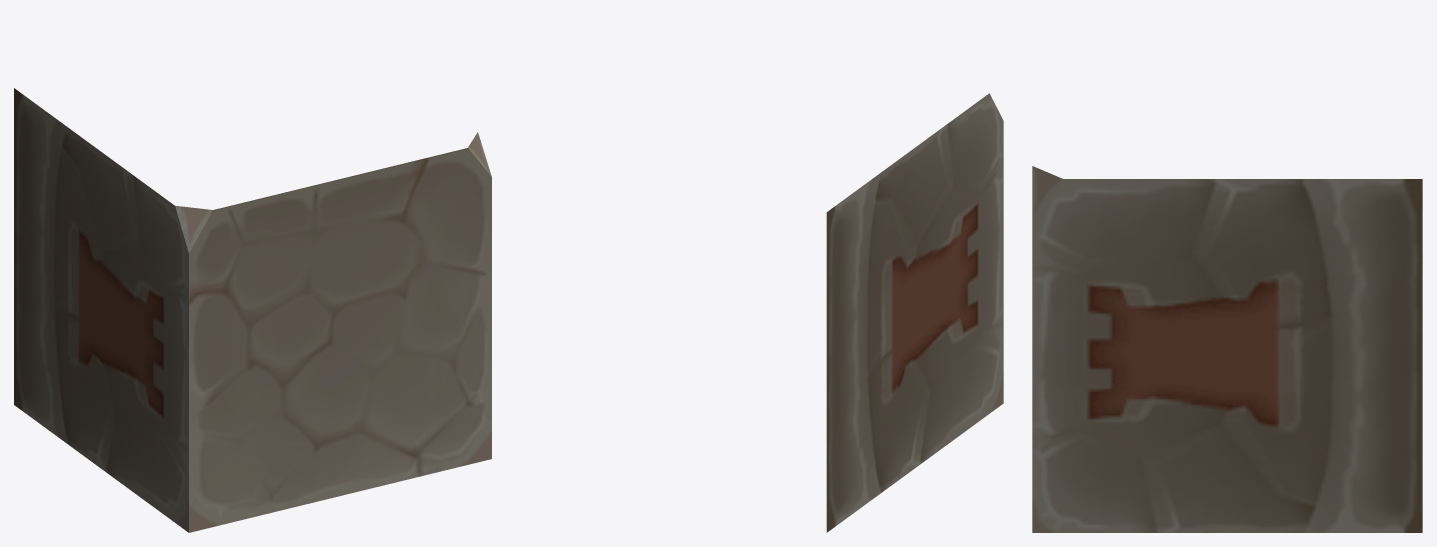
The picture shows the model from 3 angles, left to right: view 1: azimuth 30°, elevation 25°; view 2: azimuth 150°, elevation 25°; view 3: azimuth 270°, elevation 25°; orthographic projection. The views are drawn at different scales.
Parts seen in each view (by area): view 1: A:\.Yandex.YandexDisk.SK SHARED FILES.Game models.1 Exported; view 2: A:\.Yandex.YandexDisk.SK SHARED FILES.Game models.1 Exported; view 3: A:\.Yandex.YandexDisk.SK SHARED FILES.Game models.1 Exported.
Boxes of the visible parts, x1,y1,x2,y2 form: A:\.Yandex.YandexDisk.SK SHARED FILES.Game models.1 Exported: (14, 88, 491, 532); A:\.Yandex.YandexDisk.SK SHARED FILES.Game models.1 Exported: (826, 93, 1003, 532); A:\.Yandex.YandexDisk.SK SHARED FILES.Game models.1 Exported: (1032, 166, 1422, 532).
Size of the model in its own units: 1 by 1 by 1.
1 material, 1 textured.
